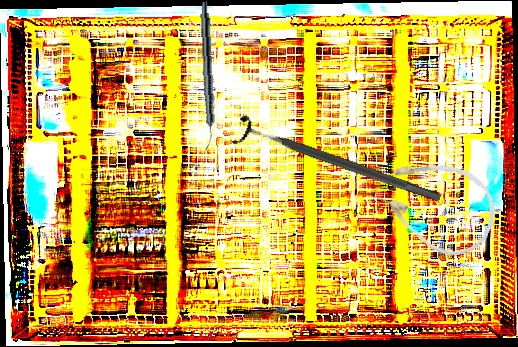Cannula: (363, 139, 509, 269)
Fixation Ring: (231, 112, 446, 215)
Handpiece: (196, 0, 218, 151)
